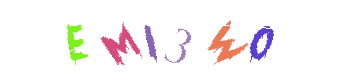3: (132, 0, 212, 80)
E: (34, 0, 114, 80)
L: (129, 0, 209, 80)
M: (129, 0, 209, 80)
O: (221, 0, 301, 80)
W: (134, 0, 214, 80)
